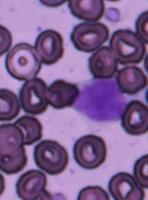M: (71, 78, 129, 125)
